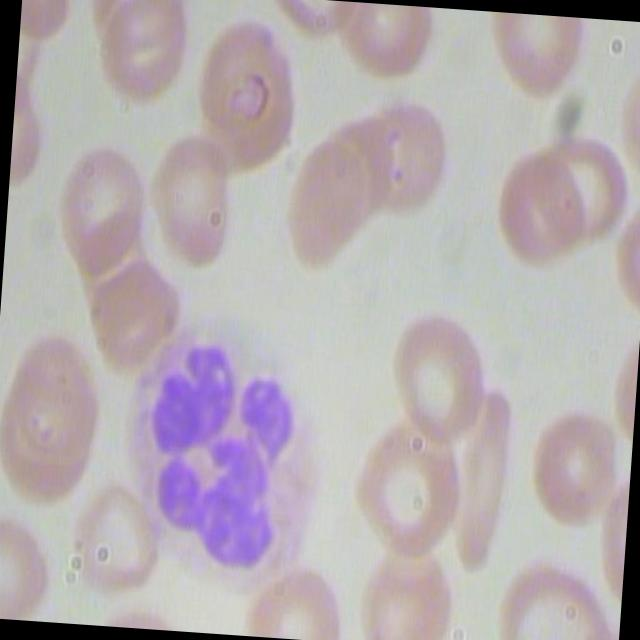RBC: (336, 412, 466, 564), (386, 300, 496, 440), (363, 90, 466, 226), (520, 398, 625, 530), (142, 126, 233, 274), (49, 135, 149, 269), (533, 130, 640, 251), (487, 138, 589, 264), (8, 320, 103, 452), (451, 372, 514, 570), (0, 383, 95, 512), (286, 132, 370, 276), (62, 478, 164, 596)
WBC: (108, 320, 341, 584)
